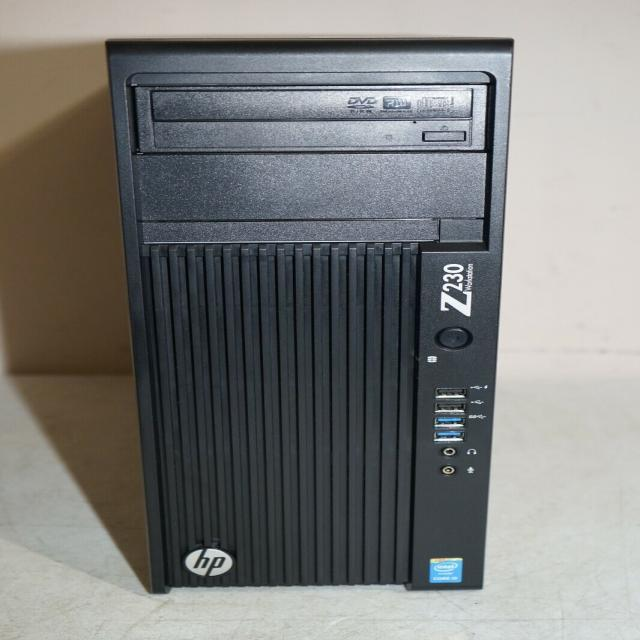Desktop-PC: (96, 21, 524, 618)
